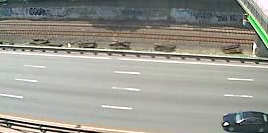car: (221, 111, 267, 133)
